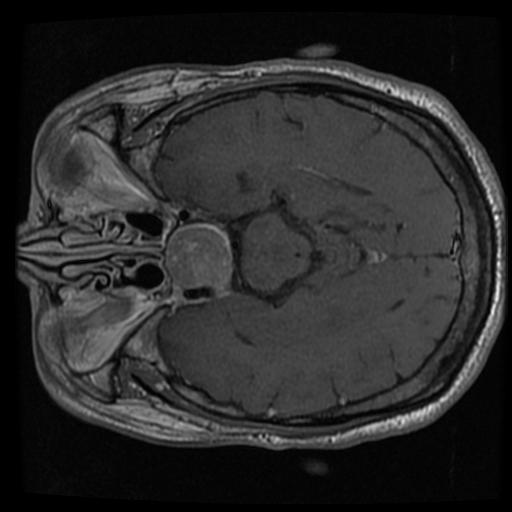pituitary tumour: (167, 226, 232, 288)
